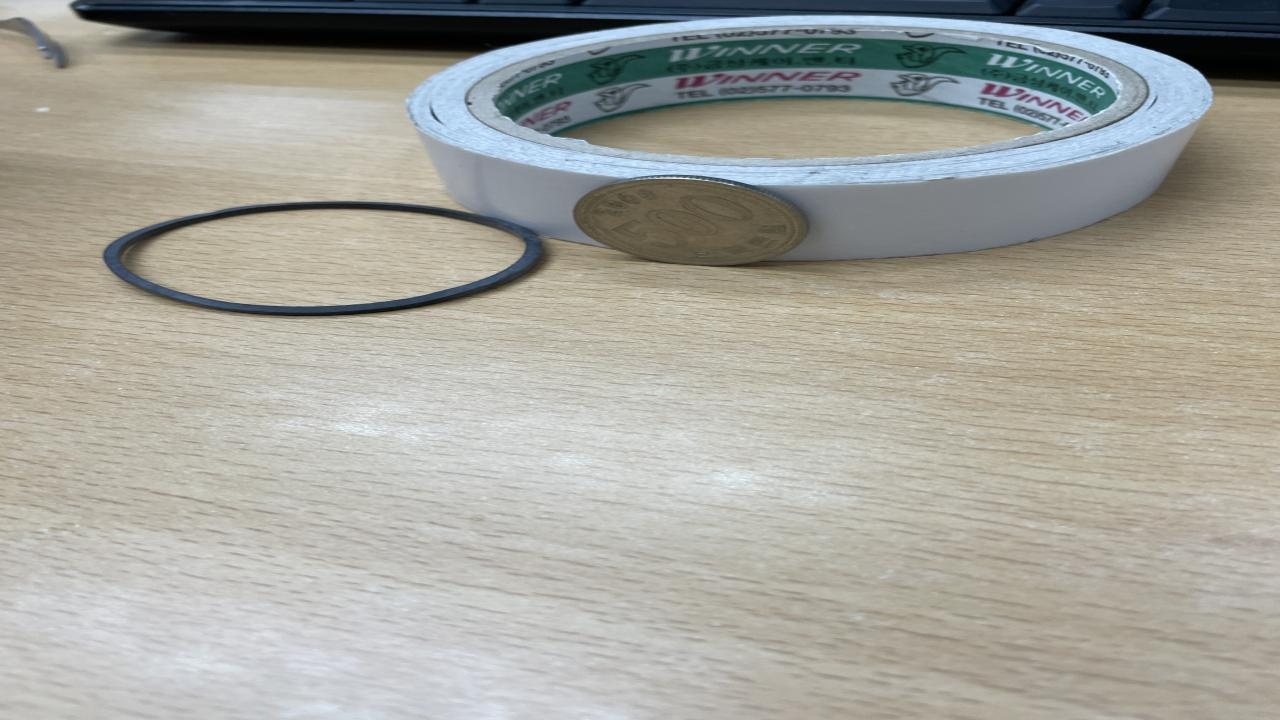coin: (571, 176, 810, 267)
